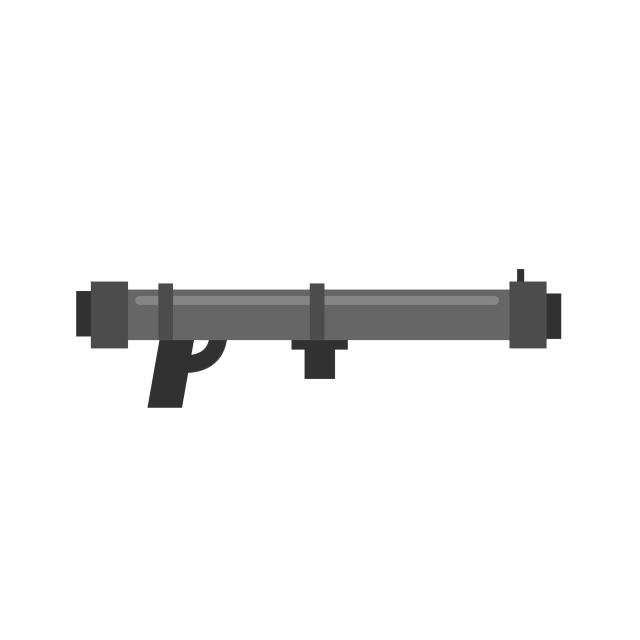Lancher: (53, 250, 567, 412)
